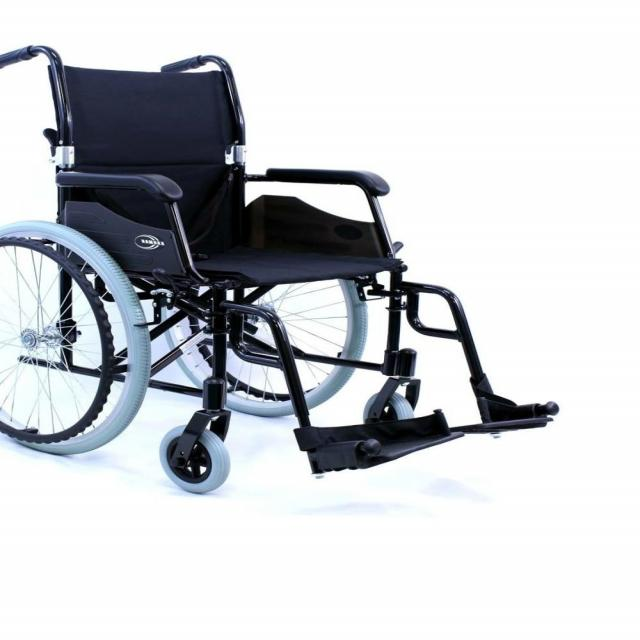wheelchair: (0, 30, 571, 500)
